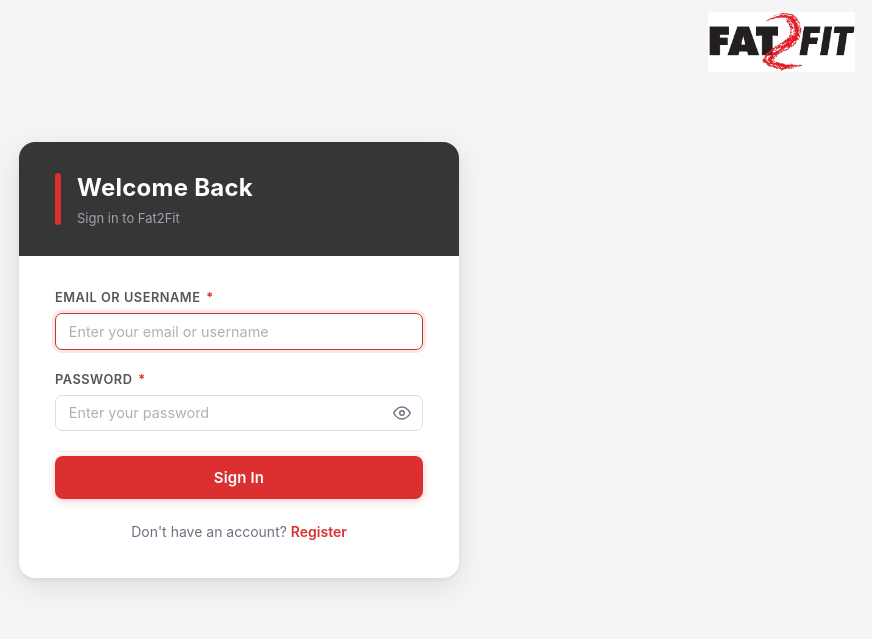
Test: Auth_Login › shows server error on invalid login
Type "wrong@example.com" into the field named "identifier" at [239, 332], box [55,313,423,350]
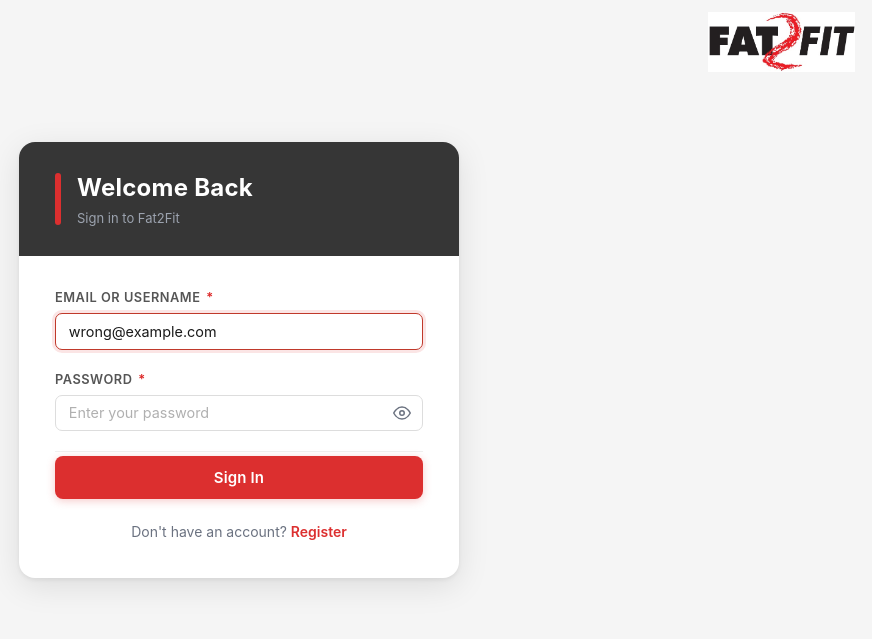
Type "wrongpass" into the password field named "password" at [239, 414], box [55,395,423,432]
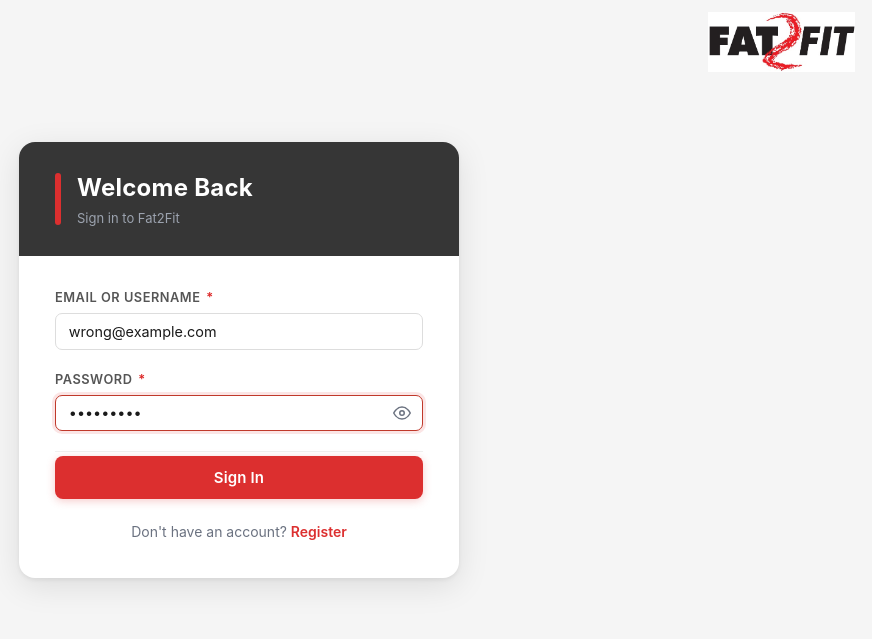
Click the button "Sign In" at [239, 478], box [55,456,423,499]
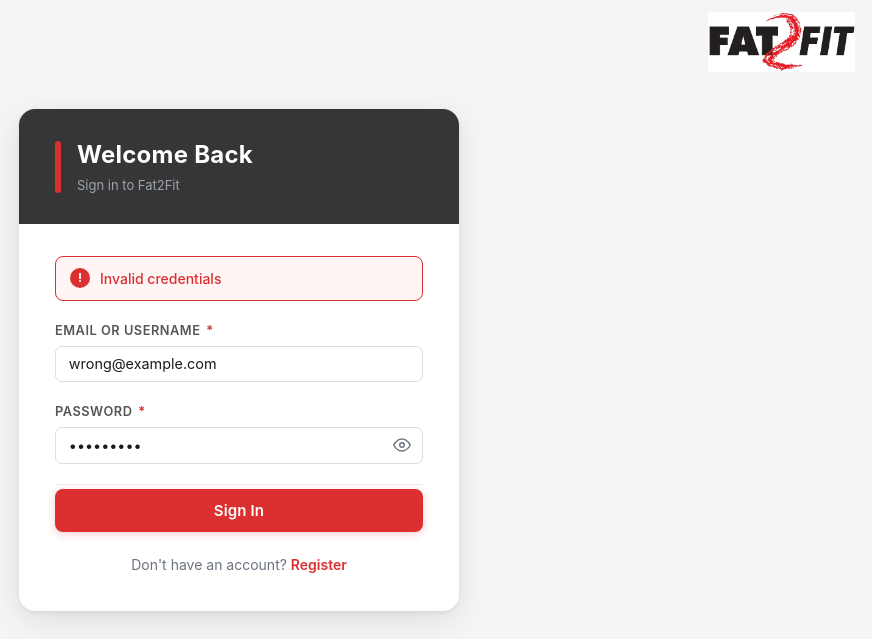
Expected: the text "Invalid credentials" is shown, [100,270,221,287]
